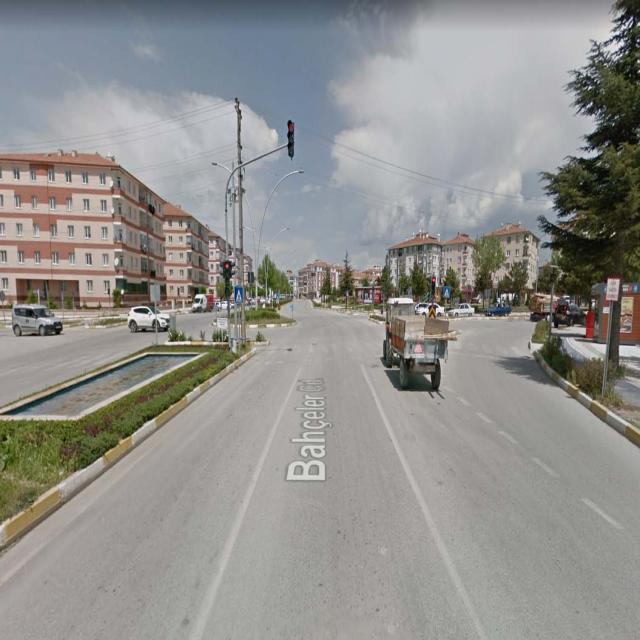kirmizi: (288, 120, 295, 156), (225, 262, 230, 286), (432, 276, 436, 295)
